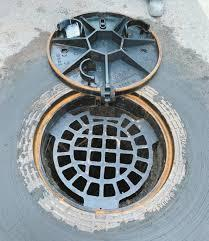wellcover: (27, 8, 186, 227)
